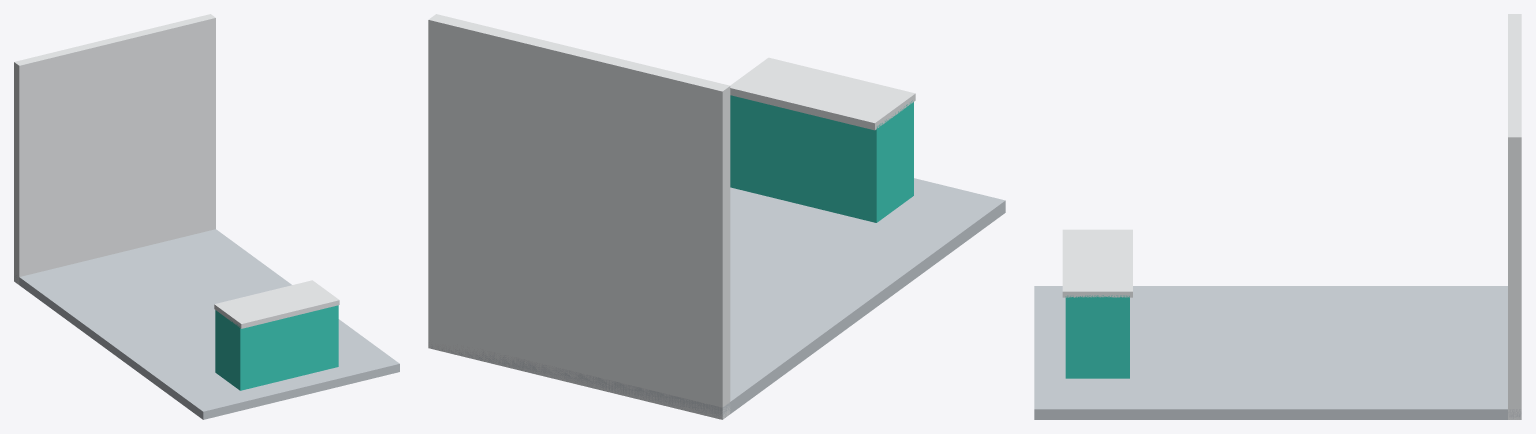
3 views of the same model, side by side, from view 1: azimuth 30°, elevation 25°; view 2: azimuth 150°, elevation 25°; view 3: azimuth 270°, elevation 25° (orthographic). The views are drawn at different scales.
Visible parts, largest first — view 1: Exhibition Booth Concept; view 2: Exhibition Booth Concept; view 3: Exhibition Booth Concept.
Boxes of the visible parts, x1,y1,x2,y2 form: Exhibition Booth Concept: [14, 14, 399, 419]; Exhibition Booth Concept: [428, 14, 1005, 419]; Exhibition Booth Concept: [1034, 14, 1521, 419].
Bounding box in the file's own units: 3 × 3.2 × 5.
